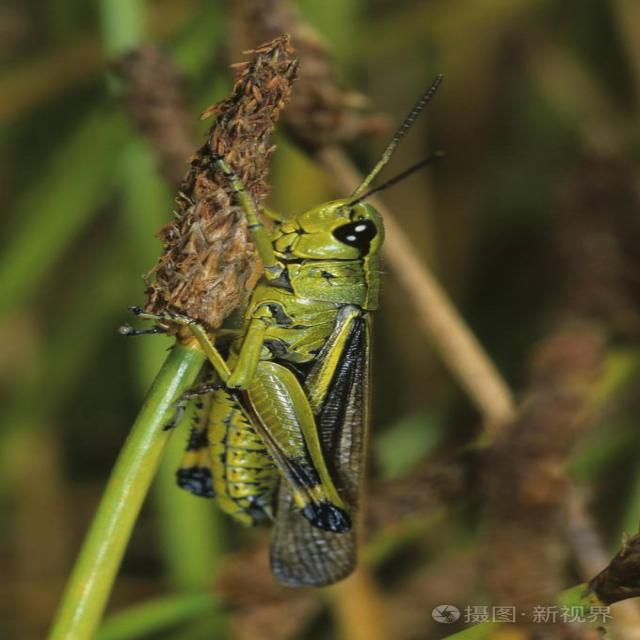ZhaMeng: (172, 88, 462, 588)
